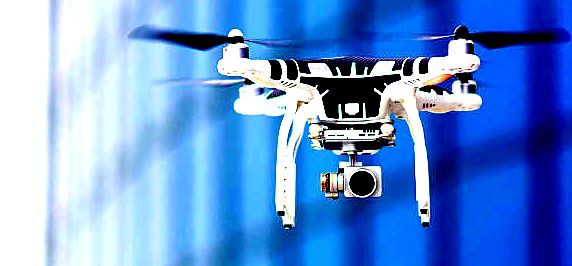Drone: (123, 21, 569, 228)
